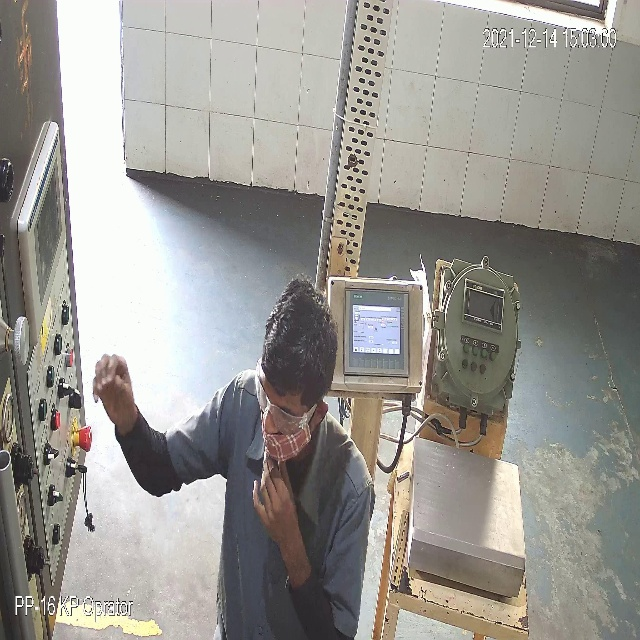Gafas: (248, 366, 311, 428)
